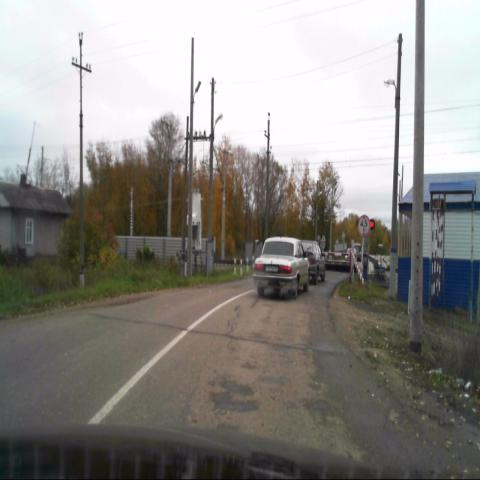3_13: (358, 214, 370, 237)
